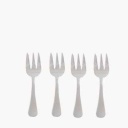fork: (91, 48, 113, 119)
